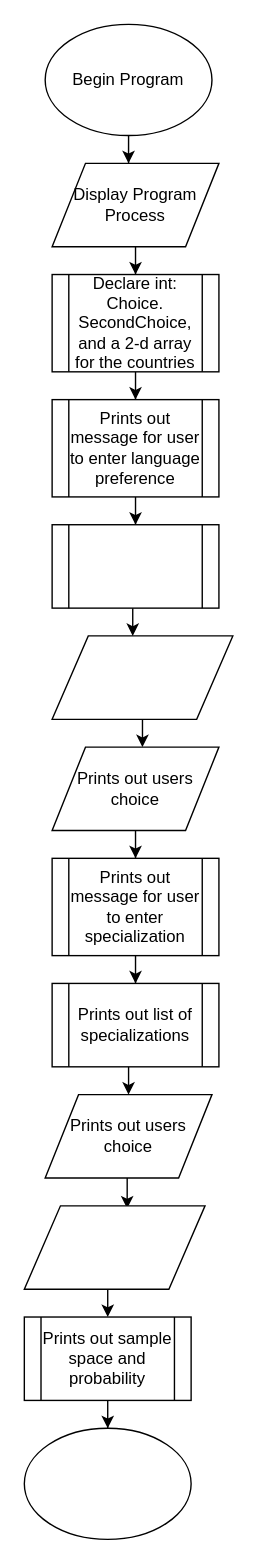
Image size: 257x1564. Some labels were removed from this diagram. The box of each missing label's shape, as (x1, y1, x2, y2) in pixels:
End/Quit Program: (23, 1427, 191, 1539)
Prints out list of language options: (51, 523, 219, 608)
Random Number Generator used to choose a country: (23, 1204, 205, 1289)
User enters choice: (51, 635, 233, 719)
